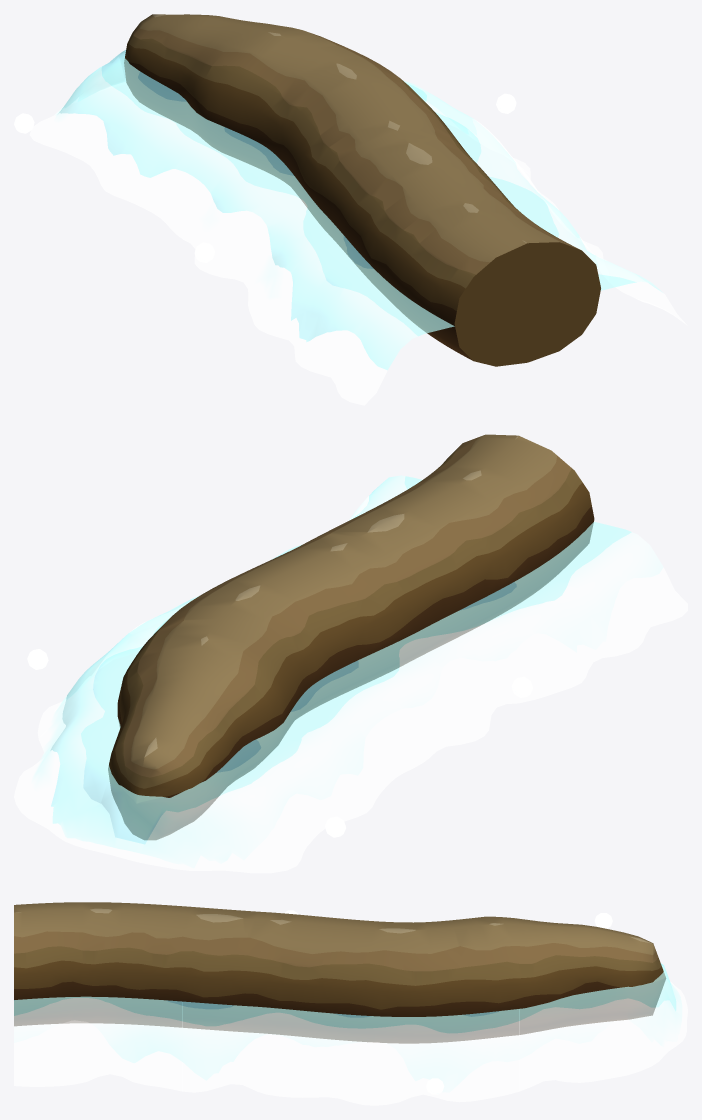
File: coral_eel_t.glb
3 renders of one model, top to bottom at view 1: azimuth 30°, elevation 25°; view 2: azimuth 150°, elevation 25°; view 3: azimuth 270°, elevation 25°, orthographic. The views are drawn at different scales.
Parts seen in each view (by area): view 1: coral_eel_t; view 2: coral_eel_t; view 3: coral_eel_t.
Part boxes in pixels (x1,y1,x2,y2): coral_eel_t: [14, 14, 687, 405]; coral_eel_t: [14, 434, 687, 873]; coral_eel_t: [14, 902, 687, 1105].
Size of the model in its own units: 16.73 by 4.87 by 28.
